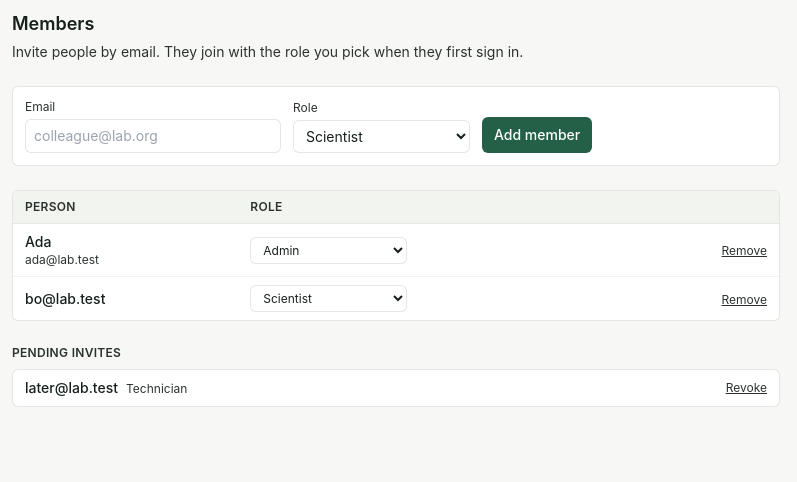
Scenario: MembersView › surfaces the server's reason, such as the last-admin rule
Expected: the text "ada@lab.test" is shown, [25,252,99,267]
Select "Scientist" in the dropdown named "Role for ada@lab.test" at (329, 250), box [250,236,407,264]
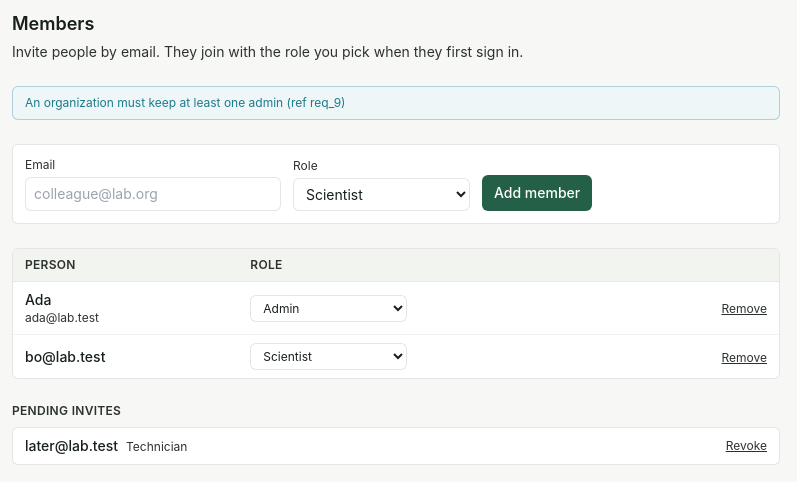
Result: the message shows "must keep at least one admin (ref req_9)" at [25,95,346,110]
